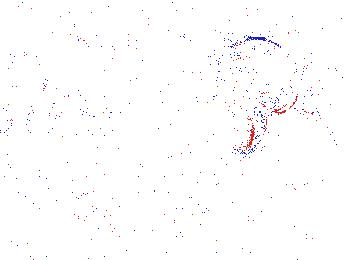moon jellyfish: (218, 39, 300, 114), (8, 32, 101, 97), (65, 47, 144, 119), (251, 46, 316, 119), (1, 52, 31, 126)
